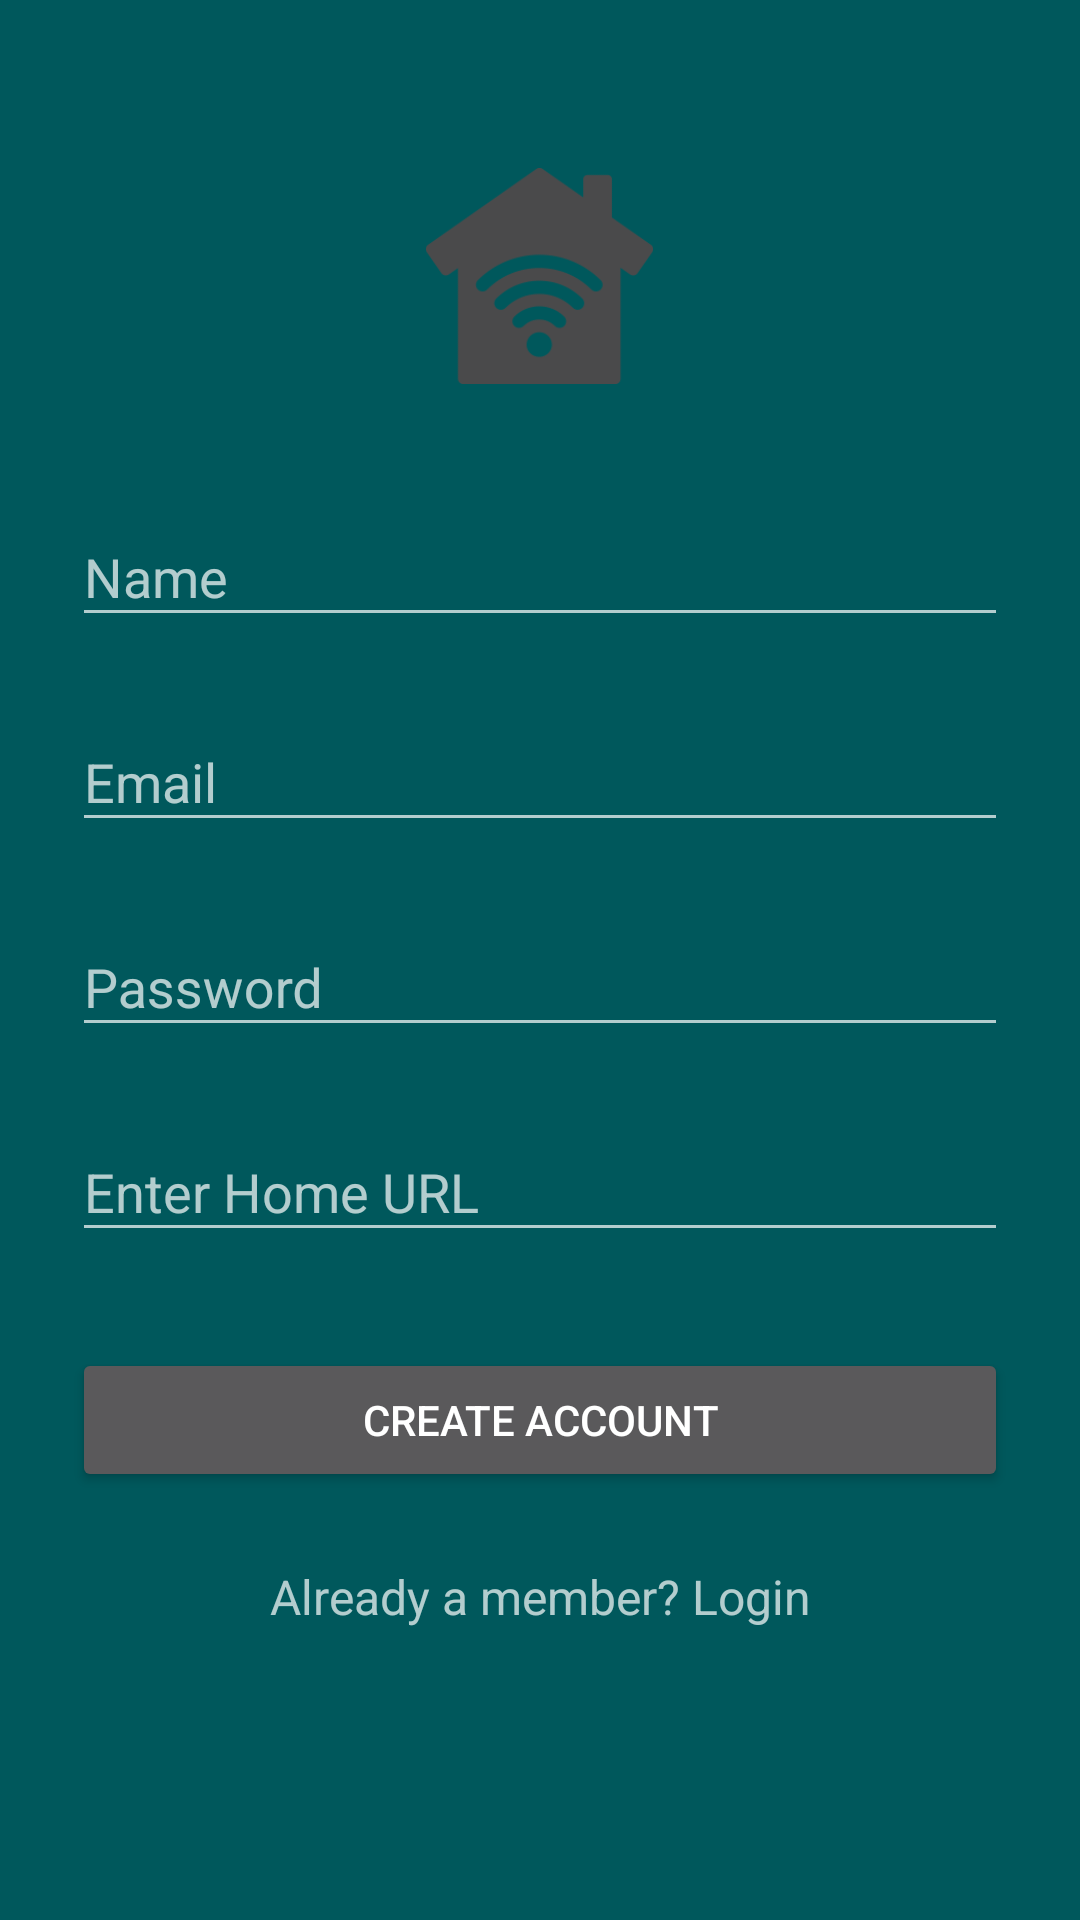

Named icons in this screenshot (1080 × 1920) and their bounding boxes, (x1, y1, x2, y2):
homeicon: (426, 168, 653, 384)
